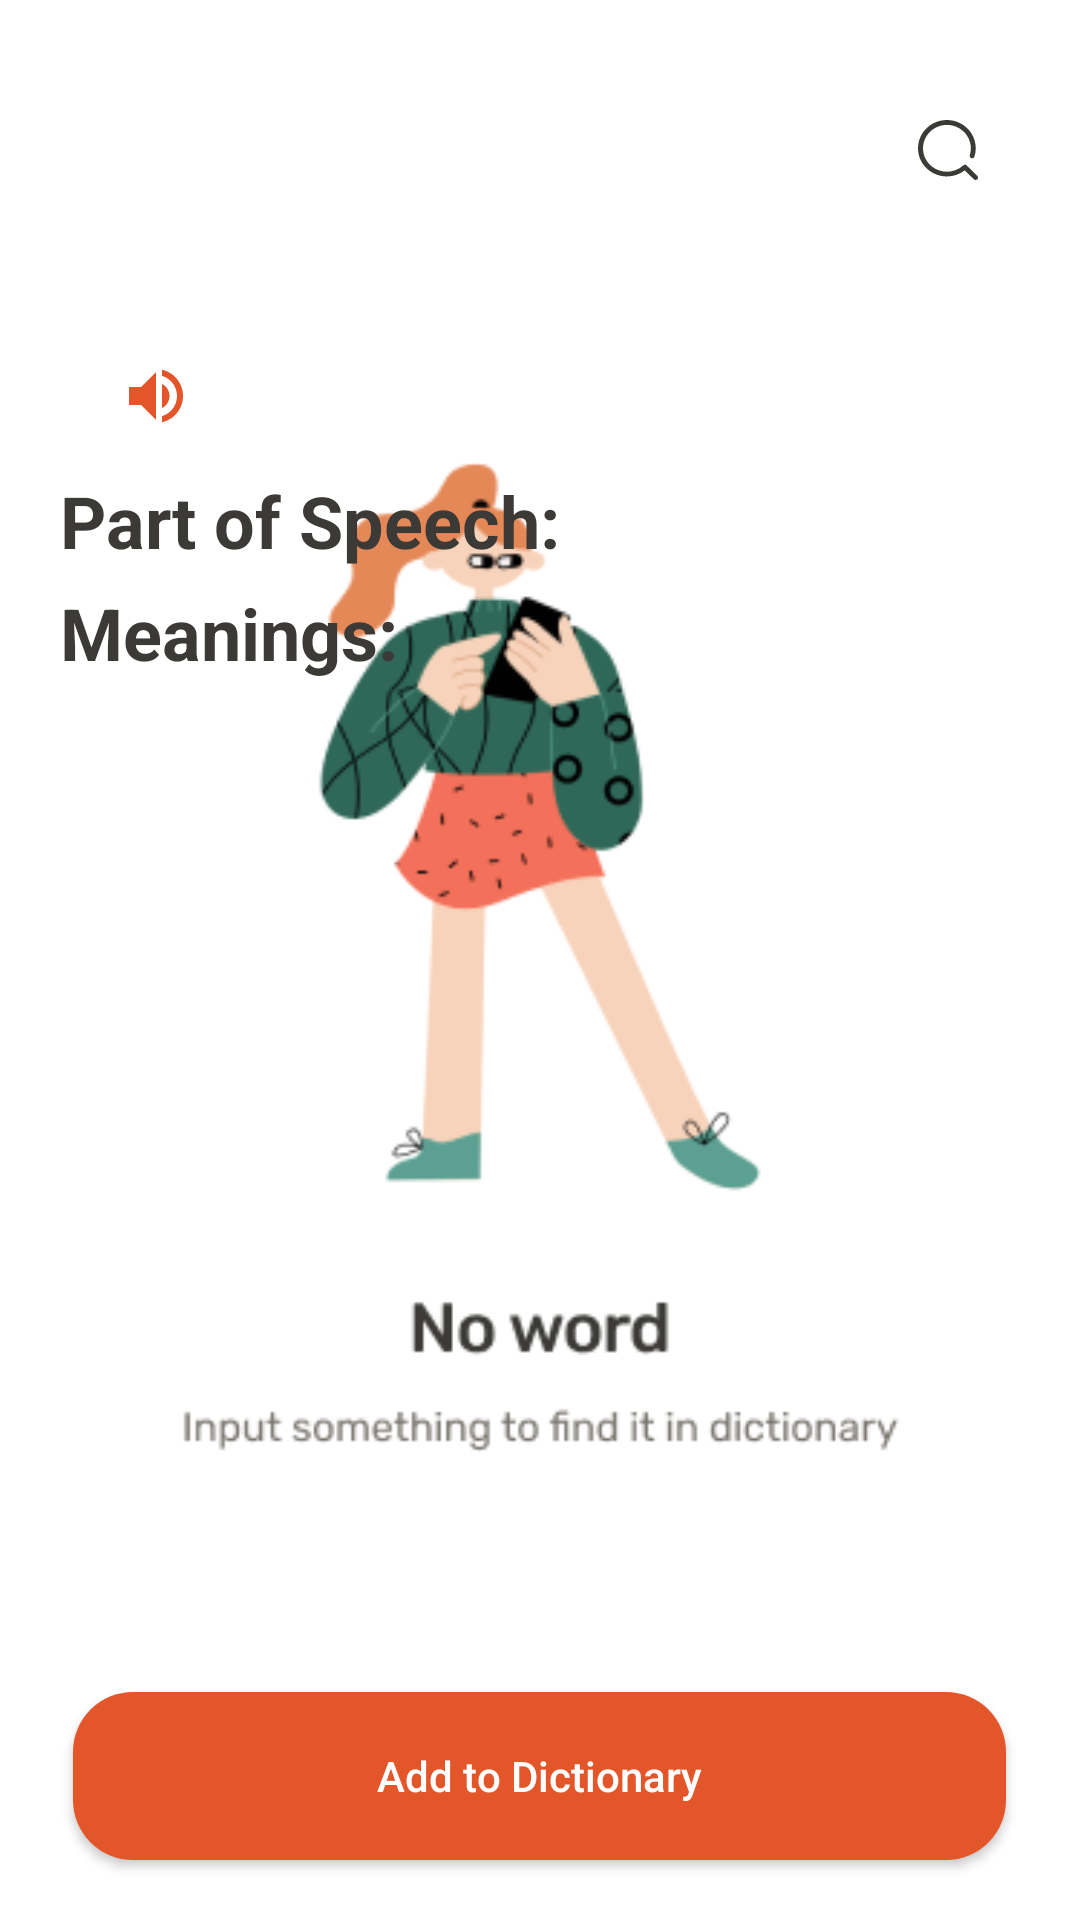

Point at icon controls on the screen. Image size 1080 x 1920, points as [x,y].
sound: [156,396]
